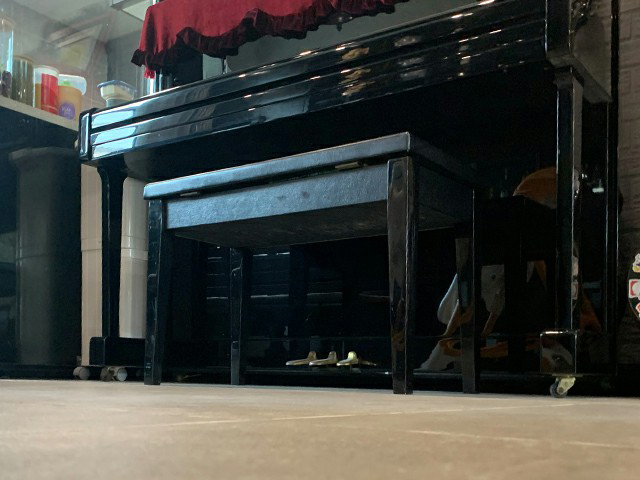stool: (142, 130, 484, 395)
